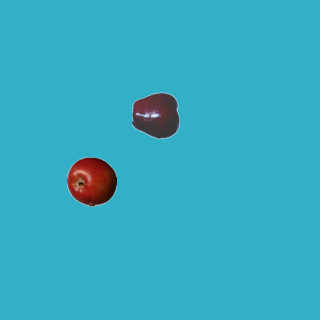Apple Braeburn: (66, 156, 116, 206)
Apple Red Delicious: (131, 90, 181, 140)
